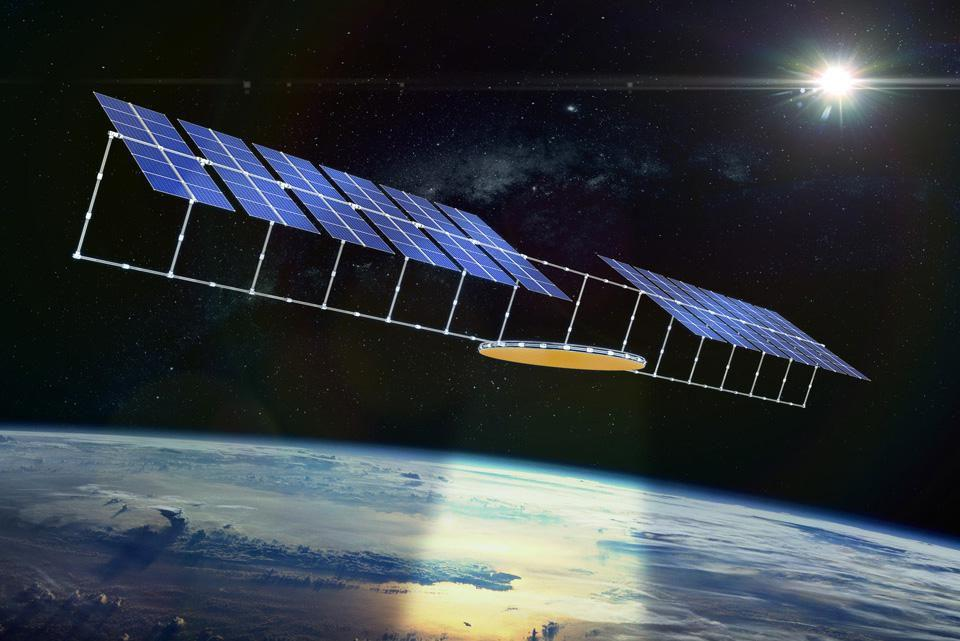solar: (91, 90, 239, 215), (175, 116, 323, 238), (248, 140, 399, 256), (316, 160, 464, 274), (376, 179, 522, 289), (431, 199, 576, 304), (594, 252, 730, 345), (631, 263, 764, 353), (665, 274, 792, 361), (698, 285, 822, 369), (727, 295, 849, 377), (752, 303, 875, 382)
